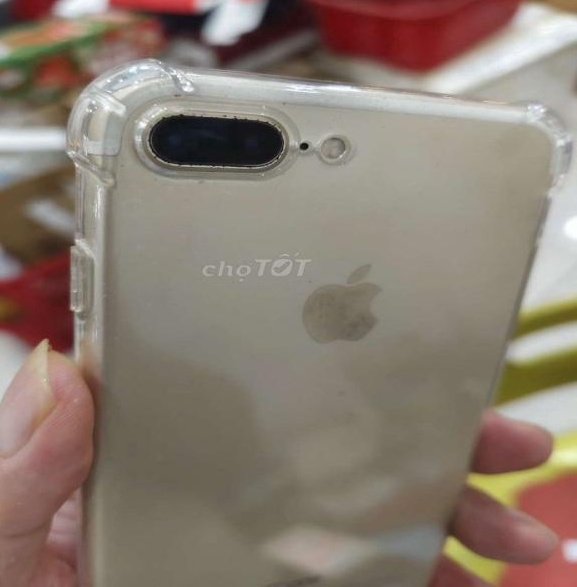scratch: (107, 98, 296, 173), (302, 258, 392, 350)
